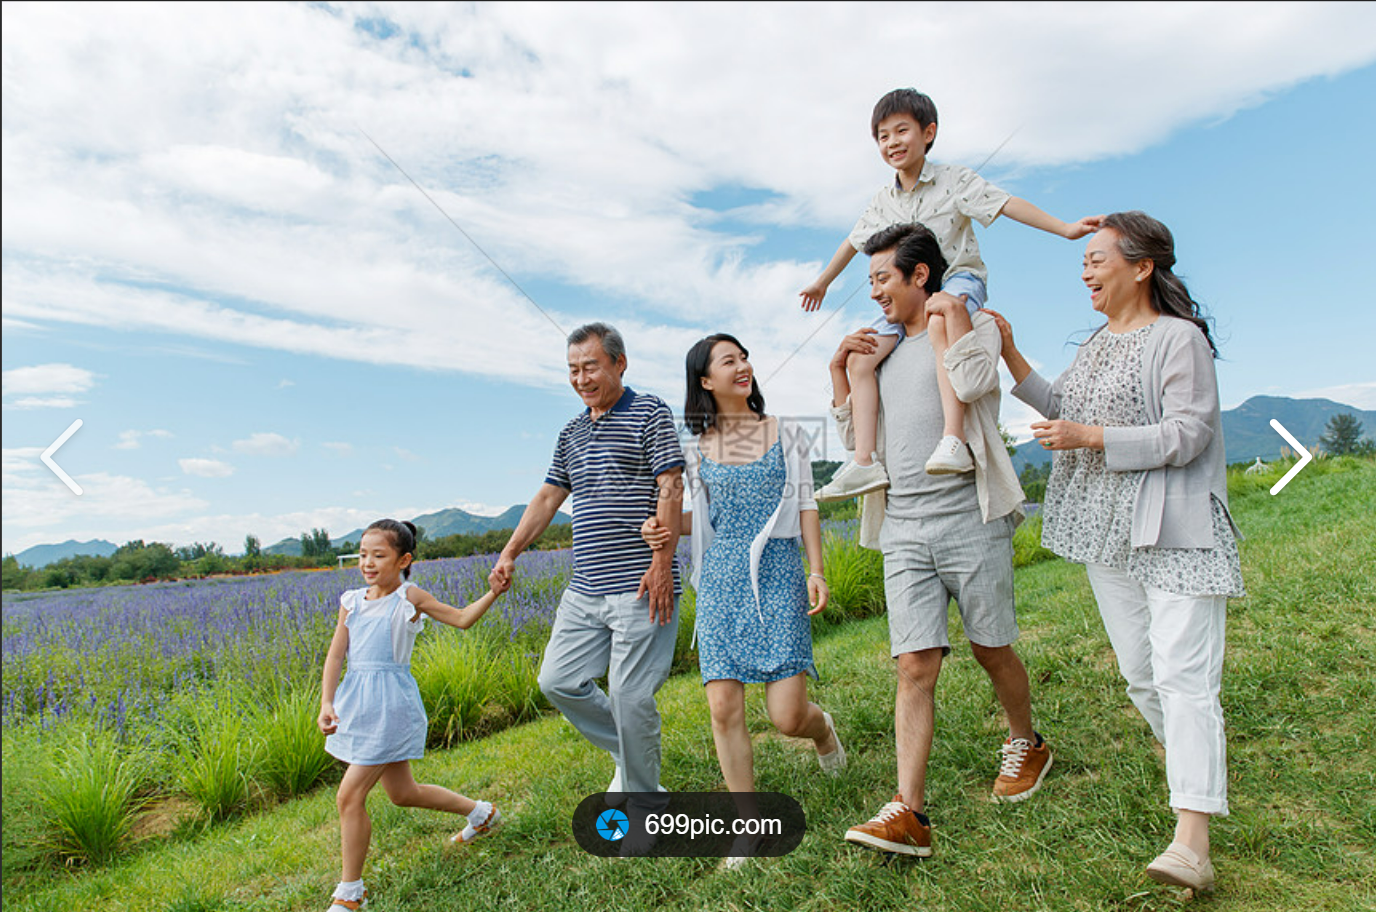people: (1047, 203, 1262, 912), (835, 229, 1053, 863), (498, 301, 670, 800), (676, 321, 830, 849), (306, 510, 497, 883), (843, 80, 1014, 244)
